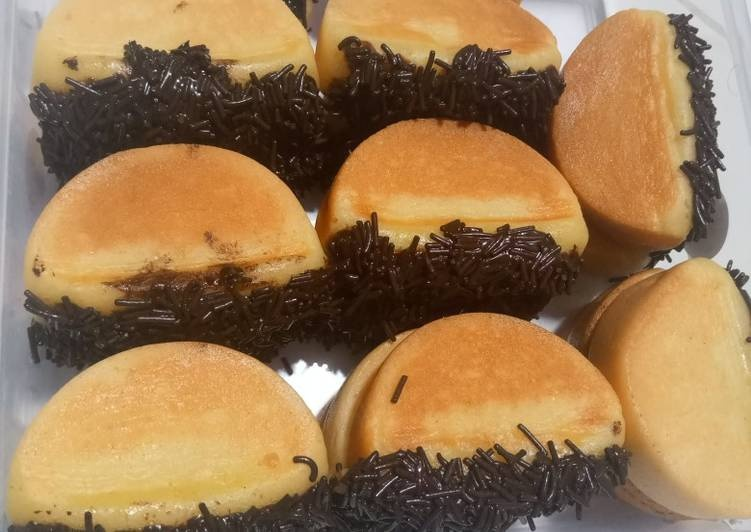pukis: (30, 133, 337, 339), (347, 102, 607, 298), (373, 317, 629, 513)
